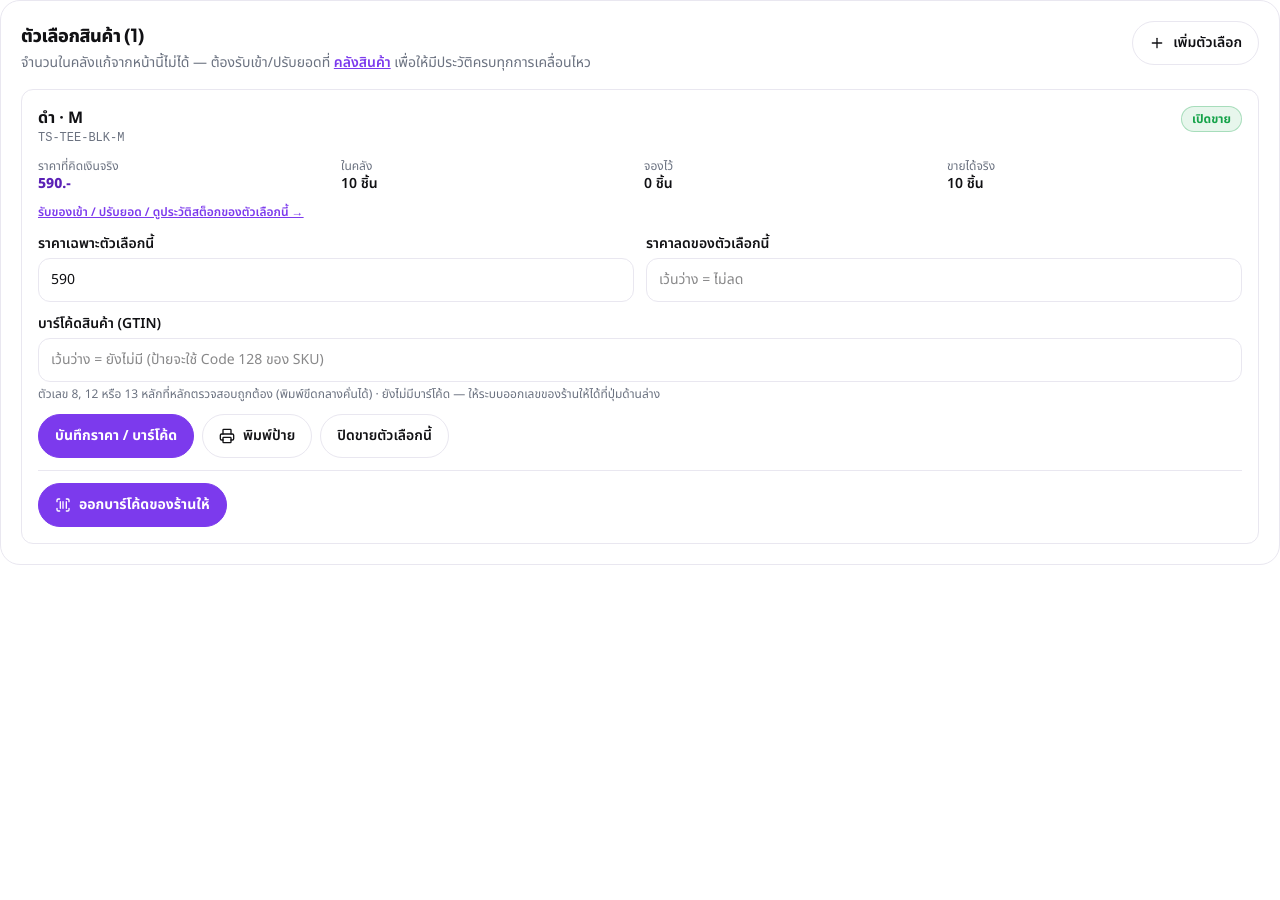
Test: VariantManager — ราคาที่พิมพ์ผิดต้องไม่เปลี่ยนราคาที่เก็บเงินจริง (STEP 37) › พิมพ์ราคาที่ไม่ใช่ตัวเลข ต้องไม่ยิง API และต้องไม่กลายเป็นการล้างราคา
Step 1. Replace the text in the field labelled "ราคาเฉพาะตัวเลือกนี้" with "abc" → (336, 280), box [38,258,634,302]
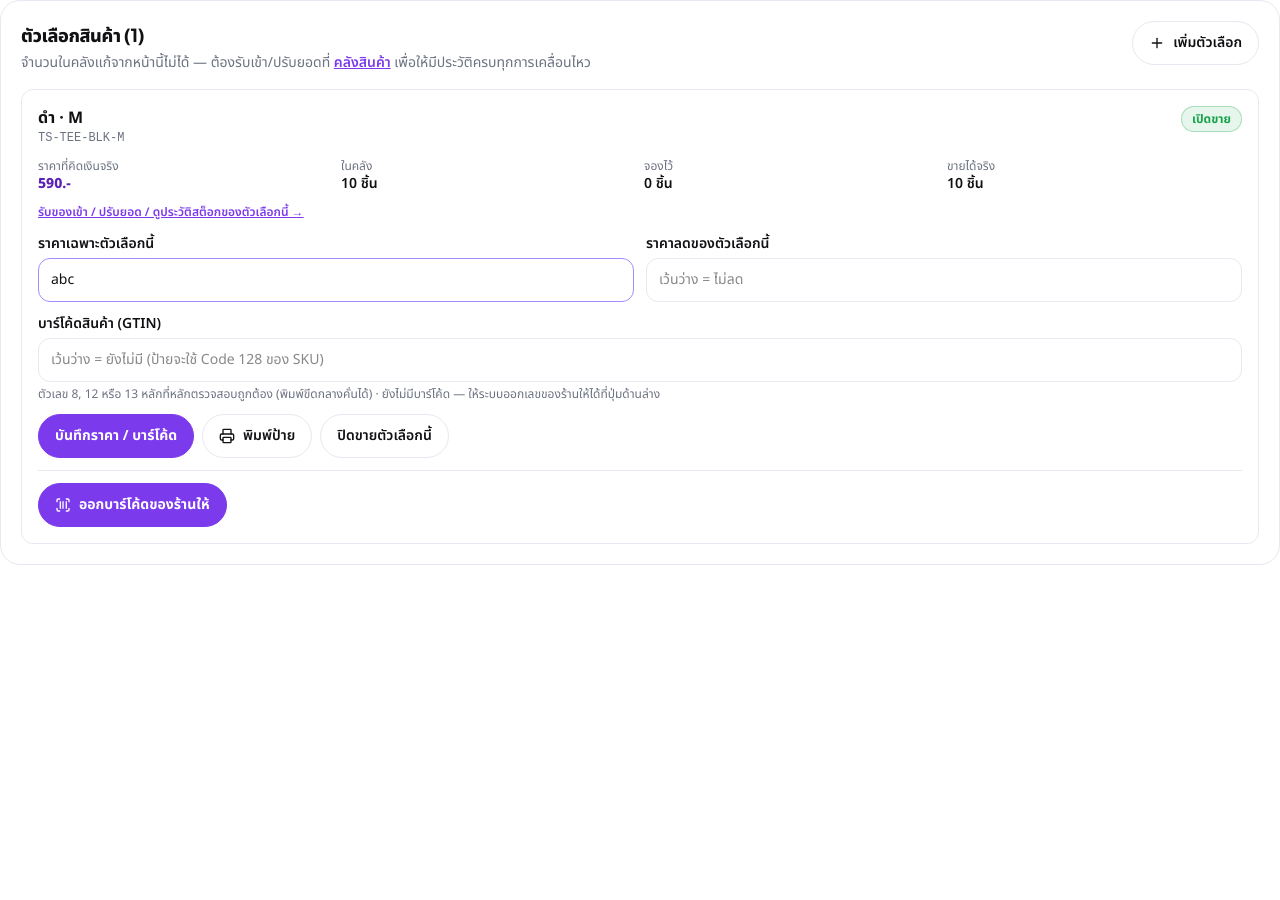
Step 2. Click the button "บันทึกราคา / บาร์โค้ด" → click(116, 436), box [38,414,194,458]
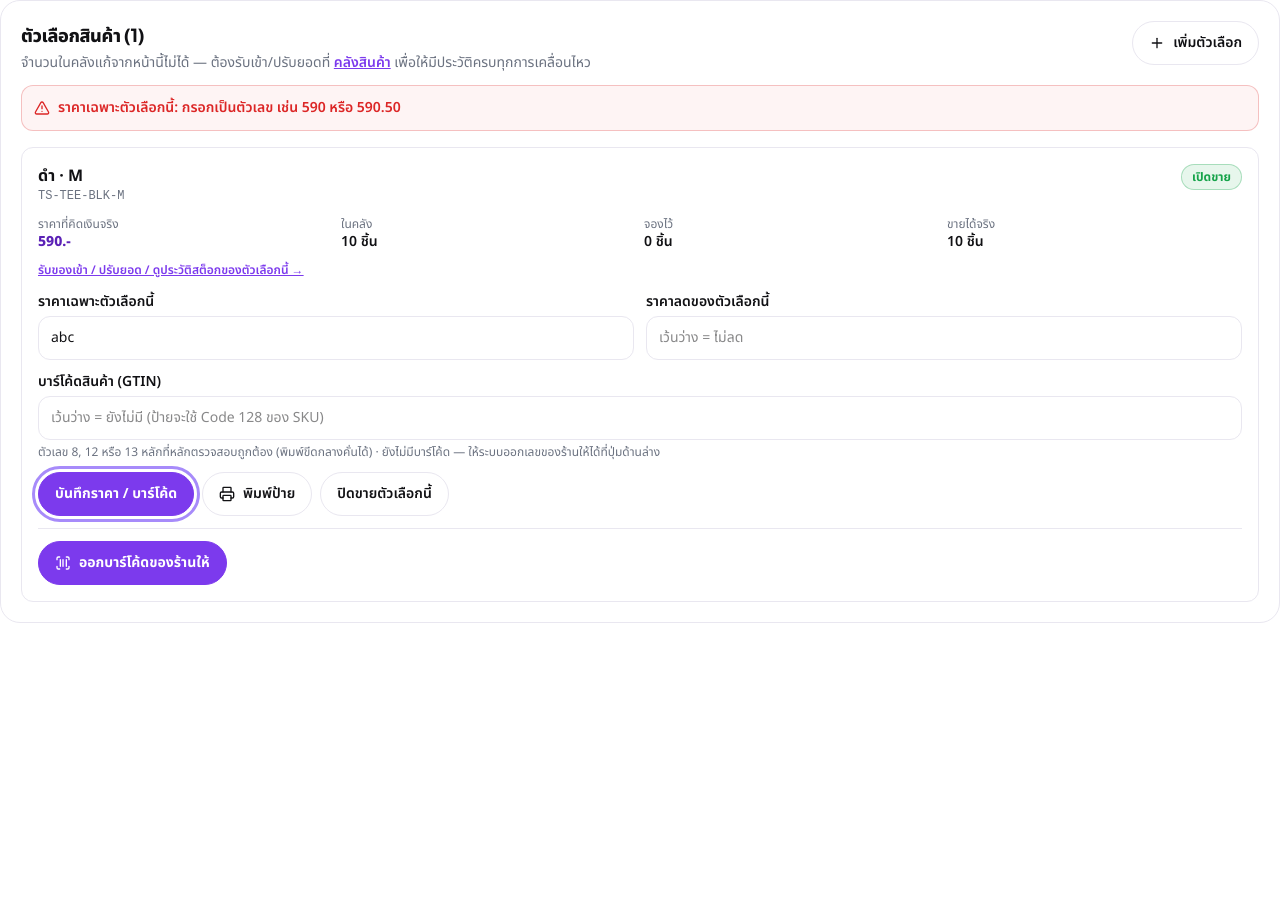
Expected: the message shows "ตัวเลข", [58,97,401,118]
